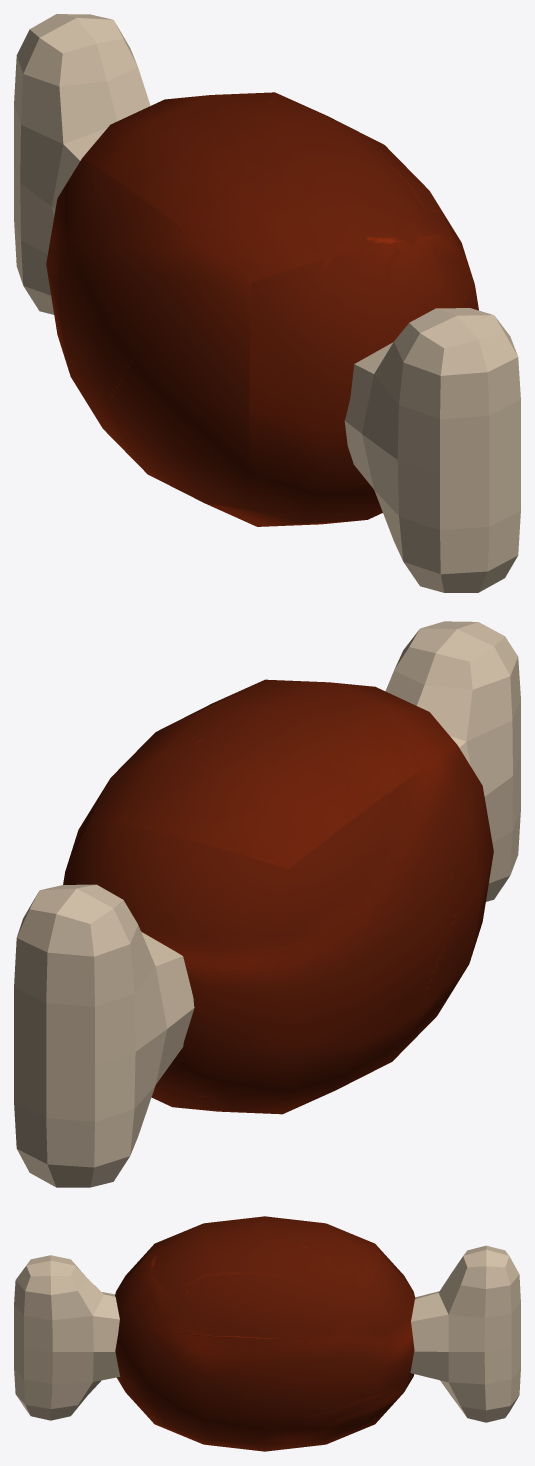
The model's file is Meat on bone.fbx.
The picture shows the model from 3 angles, top to bottom: view 1: azimuth 30°, elevation 25°; view 2: azimuth 150°, elevation 25°; view 3: azimuth 270°, elevation 25°; orthographic projection. The views are drawn at different scales.
Visible parts, largest first — view 1: Meat, Bone; view 2: Meat, Bone; view 3: Meat, Bone.
Part boxes in pixels (x1,y1,x2,y2): Meat: (46, 92, 478, 526); Bone: (14, 14, 520, 592); Meat: (63, 679, 493, 1114); Bone: (14, 621, 520, 1187); Meat: (115, 1216, 415, 1451); Bone: (14, 1245, 520, 1422).
Size of the model in its own units: 11.51 by 12.62 by 27.14.
